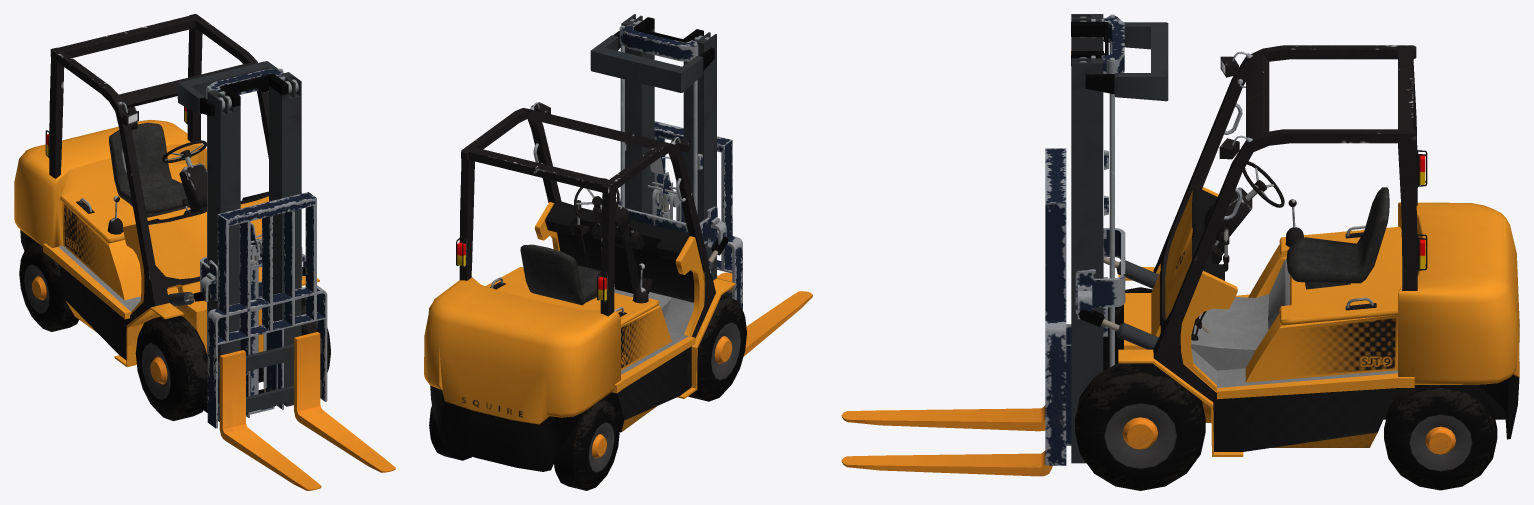
The picture shows the model from 3 angles, left to right: view 1: azimuth 30°, elevation 25°; view 2: azimuth 150°, elevation 25°; view 3: azimuth 270°, elevation 25°; orthographic projection. The views are drawn at different scales.
Parts seen in each view (by area): view 1: ForkLift_ForkLift_01_0; view 2: ForkLift_ForkLift_01_0; view 3: ForkLift_ForkLift_01_0.
Boxes of the visible parts, x1,y1,x2,y2 form: ForkLift_ForkLift_01_0: (14,14,395,490); ForkLift_ForkLift_01_0: (424,14,812,490); ForkLift_ForkLift_01_0: (841,14,1519,490).
Bounding box in the file's own units: 1.31 × 2.58 × 3.86.
Materials: 1 (1 with a texture image).
